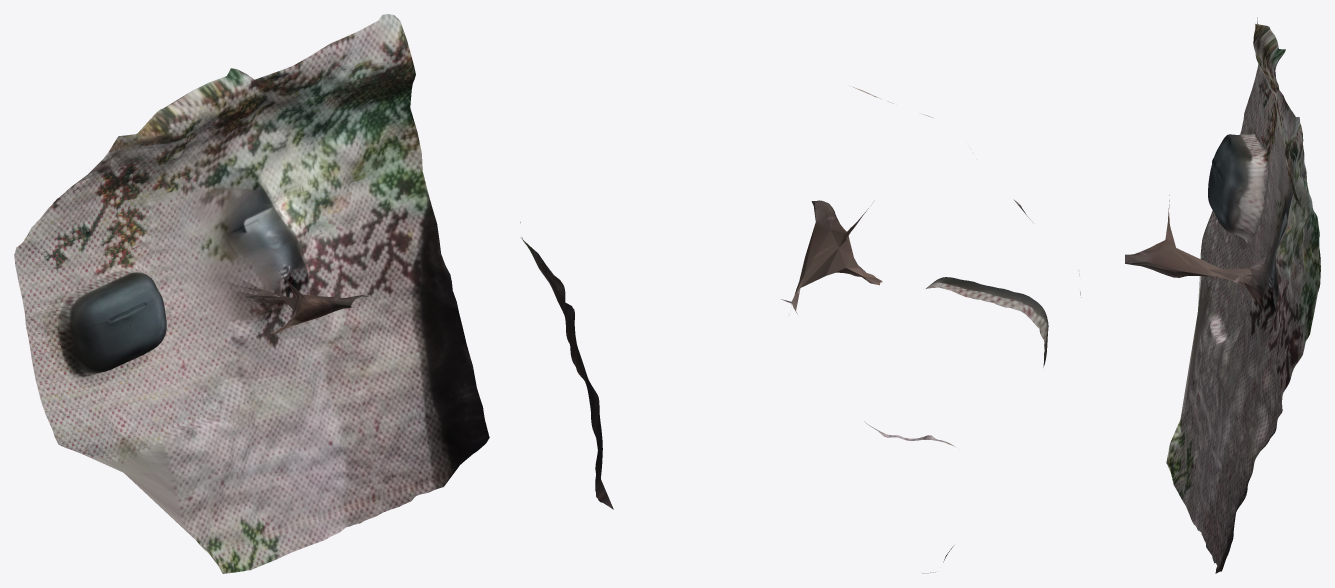
The model's file is airbuds.glb.
The picture shows the model from 3 angles, left to right: view 1: azimuth 30°, elevation 25°; view 2: azimuth 150°, elevation 25°; view 3: azimuth 270°, elevation 25°; orthographic projection. The views are drawn at different scales.
Bounding box in the file's own units: 1.26 × 1.27 × 0.4864.
Materials: 1 (1 with a texture image).
